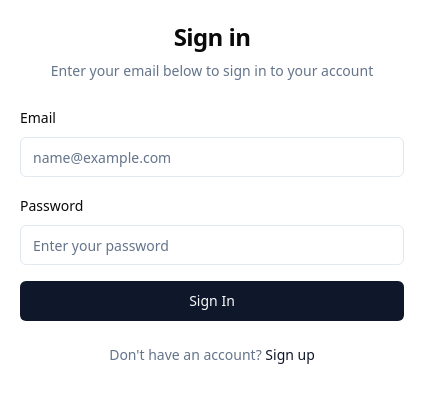
Login Page › shows validation error for invalid email
Type "notanemail" into the field labelled "Email" at [212, 157], box [20, 137, 404, 177]
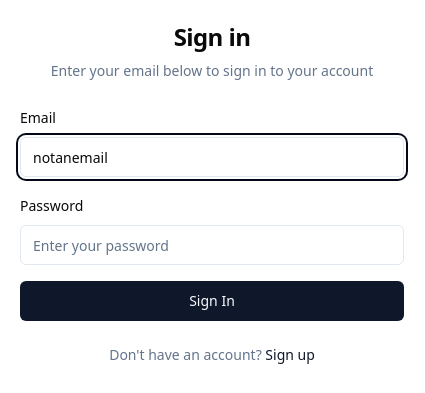
Type "validPass1" into the password field labelled "Password" at [212, 245], box [20, 225, 404, 265]
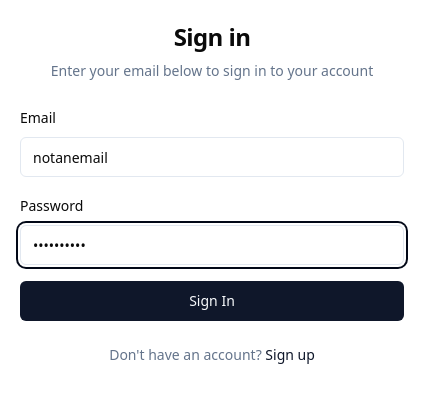
Click the button "Sign In" at [212, 301], box [20, 281, 404, 321]
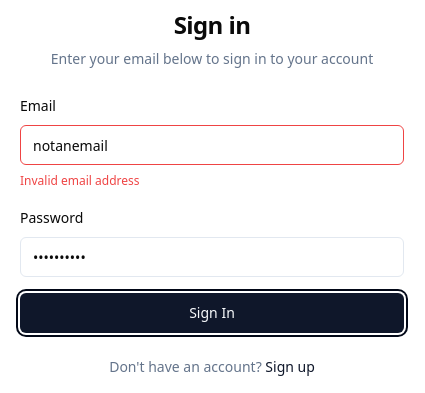
Now the text "Invalid email address" is shown, box [20, 172, 140, 189]
